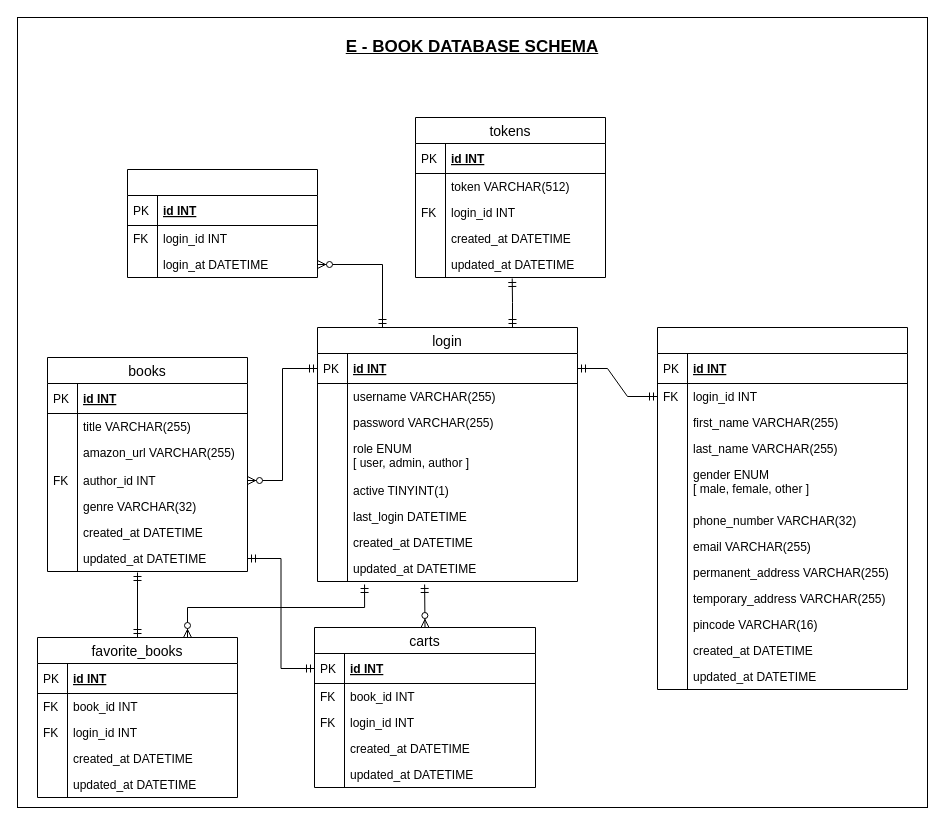
This 945x825 diagram has some shape labels left out. The box of each missing label's shape, as (x1, y1, x2, y2) in pixels:
login_history: (126, 168, 318, 278)
users: (656, 326, 908, 690)
